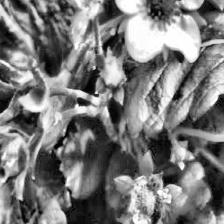Blossom Blight: (126, 177, 174, 224)
